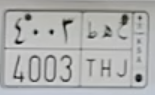0: (27, 28, 42, 83), (43, 29, 57, 83)
3: (60, 18, 74, 83)
4: (12, 16, 25, 83)
H: (100, 24, 114, 78)
J: (115, 21, 129, 78)
T: (86, 21, 97, 78)
